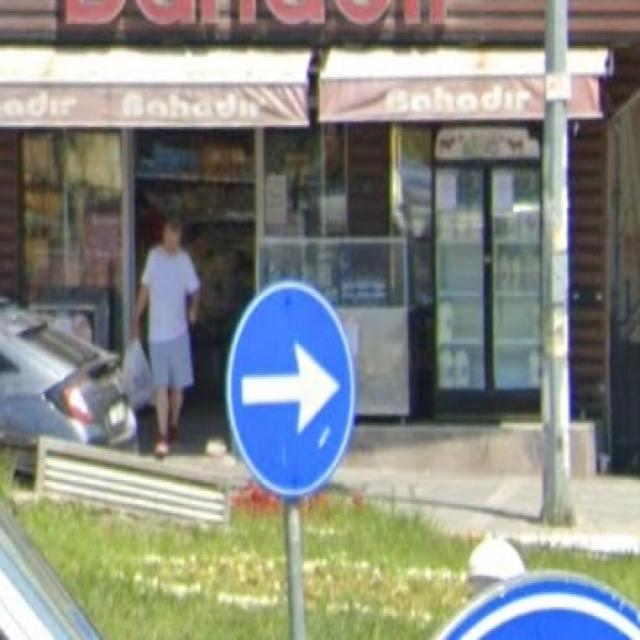Turn Right: (223, 277, 358, 494)
